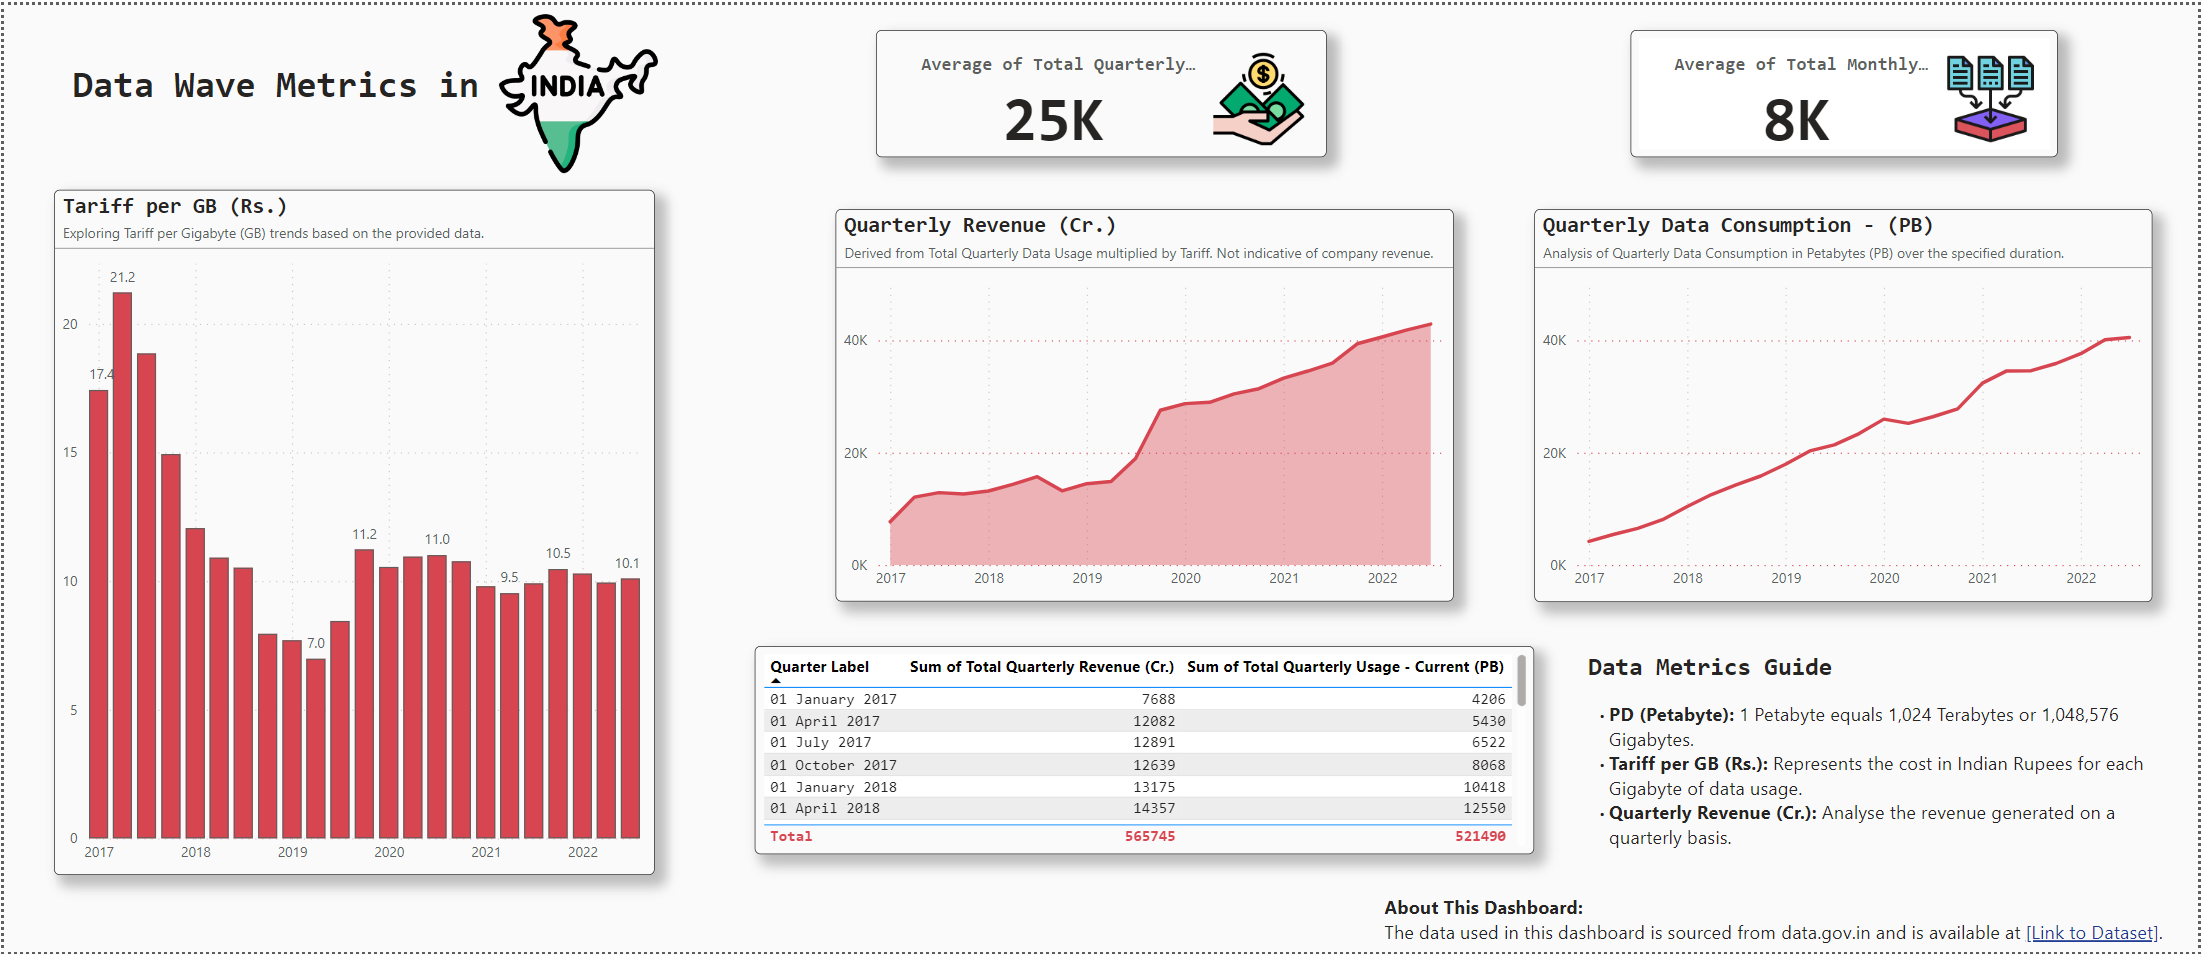

The page's visual inventory and layout, read from the dashboard file:
{"tool":"powerbi","page":{"name":"Page 1","canvas":[1900,820],"ordinal":0},"visuals":[{"type":"textbox","box":[42.9,44.3,384.3,50],"z":0},{"type":"lineChart","title":"Quarterly Data Consumption - (PB)","fields":{"Category":["Quarter-wise_Wireless-Data-Usage-and-ARPU_Qtr1-2017-18_Qtr3-2022-23.Quarter Label"],"Y":["Sum(Quarter-wise_Wireless-Data-Usage-and-ARPU_Qtr1-2017-18_Qtr3-2022-23.Total Quarterly Usage - Current (PB))"]},"box":[1325,176.7,535,340],"z":1000},{"type":"areaChart","title":"Quarterly Revenue (Cr.)","fields":{"Category":["Quarter-wise_Wireless-Data-Usage-and-ARPU_Qtr1-2017-18_Qtr3-2022-23.Quarter Label"],"Y":["Sum(Quarter-wise_Wireless-Data-Usage-and-ARPU_Qtr1-2017-18_Qtr3-2022-23.Total Quarterly Revenue (Cr.))"]},"box":[720,176.7,535,340],"z":2000},{"type":"clusteredColumnChart","title":"Tariff per GB (Rs.)","fields":{"Category":["Quarter-wise_Wireless-Data-Usage-and-ARPU_Qtr1-2017-18_Qtr3-2022-23.Quarter Label"],"Y":["Sum(Quarter-wise_Wireless-Data-Usage-and-ARPU_Qtr1-2017-18_Qtr3-2022-23.Tariff per GB - Current (Rs.))"]},"box":[43.3,160,520,593.3],"z":3000},{"type":"cardVisual","fields":{"Data":["Avg(Quarter-wise_Wireless-Data-Usage-and-ARPU_Qtr1-2017-18_Qtr3-2022-23.Total Monthly Usage (PB))"]},"box":[1408.3,21.7,370,110],"z":4000},{"type":"cardVisual","fields":{"Data":["Avg(Quarter-wise_Wireless-Data-Usage-and-ARPU_Qtr1-2017-18_Qtr3-2022-23.Total Quarterly Revenue (Cr.))"]},"box":[755,21.7,390,110],"z":5000},{"type":"tableEx","fields":{"Values":["Quarter-wise_Wireless-Data-Usage-and-ARPU_Qtr1-2017-18_Qtr3-2022-23.Quarter Label","Sum(Quarter-wise_Wireless-Data-Usage-and-ARPU_Qtr1-2017-18_Qtr3-2022-23.Total Quarterly Revenue (Cr.))","Sum(Quarter-wise_Wireless-Data-Usage-and-ARPU_Qtr1-2017-18_Qtr3-2022-23.Total Quarterly Usage - Current (PB))"]},"box":[650,555,675,180],"z":6000},{"type":"image","box":[424,2,148,150],"z":7000},{"type":"textbox","box":[1366.7,555,493.3,193.3],"z":8000},{"type":"textbox","box":[1190,765,710,55],"z":9000}]}

Visuals, with their boxes in screenshot pixels (x1, y1, x2, y2), scaled from the page's 1900x820 canvas onto the 2201x955 screenshot:
textbox: locate(50, 52, 495, 110)
"Quarterly Data Consumption - (PB)" lineChart: locate(1535, 206, 2155, 602)
"Quarterly Revenue (Cr.)" areaChart: locate(834, 206, 1454, 602)
"Tariff per GB (Rs.)" clusteredColumnChart: locate(50, 186, 653, 877)
cardVisual - Avg(Quarter-wise_Wireless-Data-Usage-and-ARPU_Qtr1-2017-18_Qtr3-2022-23.Total Monthly Usage (PB)): locate(1631, 25, 2060, 153)
cardVisual - Avg(Quarter-wise_Wireless-Data-Usage-and-ARPU_Qtr1-2017-18_Qtr3-2022-23.Total Quarterly Revenue (Cr.)): locate(875, 25, 1326, 153)
tableEx - Quarter-wise_Wireless-Data-Usage-and-ARPU_Qtr1-2017-18_Qtr3-2022-23.Quarter Label x Sum(Quarter-wise_Wireless-Data-Usage-and-ARPU_Qtr1-2017-18_Qtr3-2022-23.Total Quarterly Revenue (Cr.)): locate(753, 646, 1535, 856)
image: locate(491, 2, 663, 177)
textbox: locate(1583, 646, 2155, 871)
textbox: locate(1379, 891, 2200, 954)
